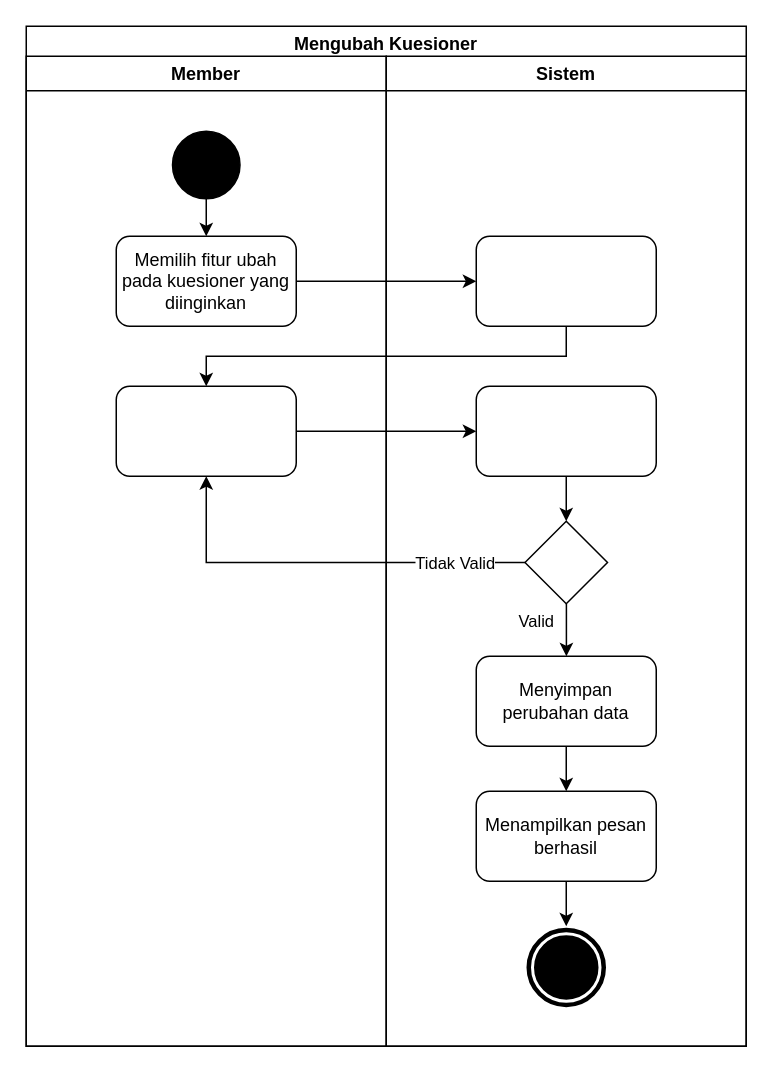
This 773x1073 diagram has some shape labels left out. The centre of each missing label's shape, as x and y in pixels:
Melakukan validasi data kuesioner: point 565,430
Menampilkan halaman questionnaire editor: point 565,280
Mengisi formulir perubahan kuesioner: point 205,430
